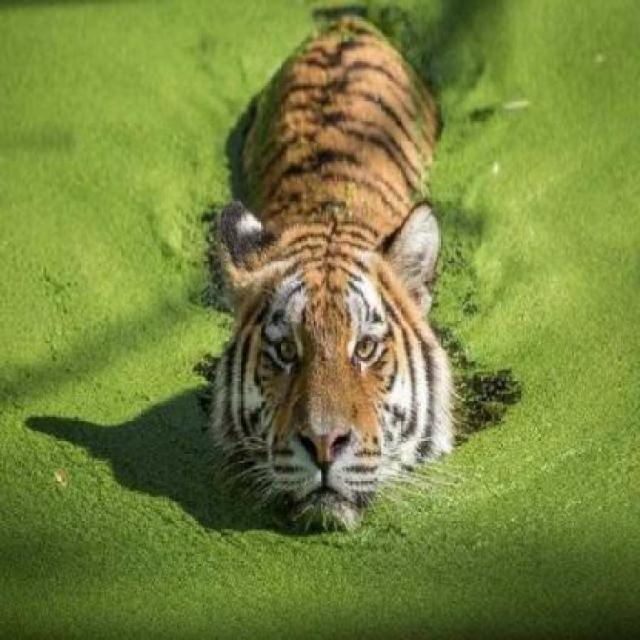Tiger: (212, 12, 476, 545)
